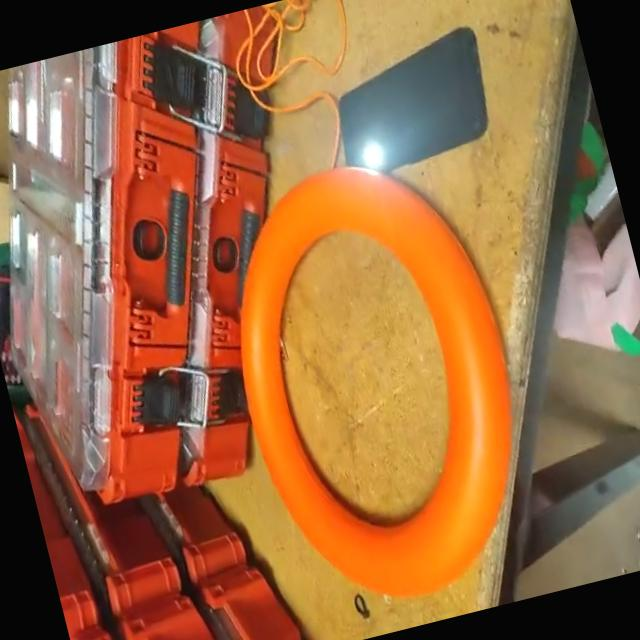note: (194, 135, 560, 623)
